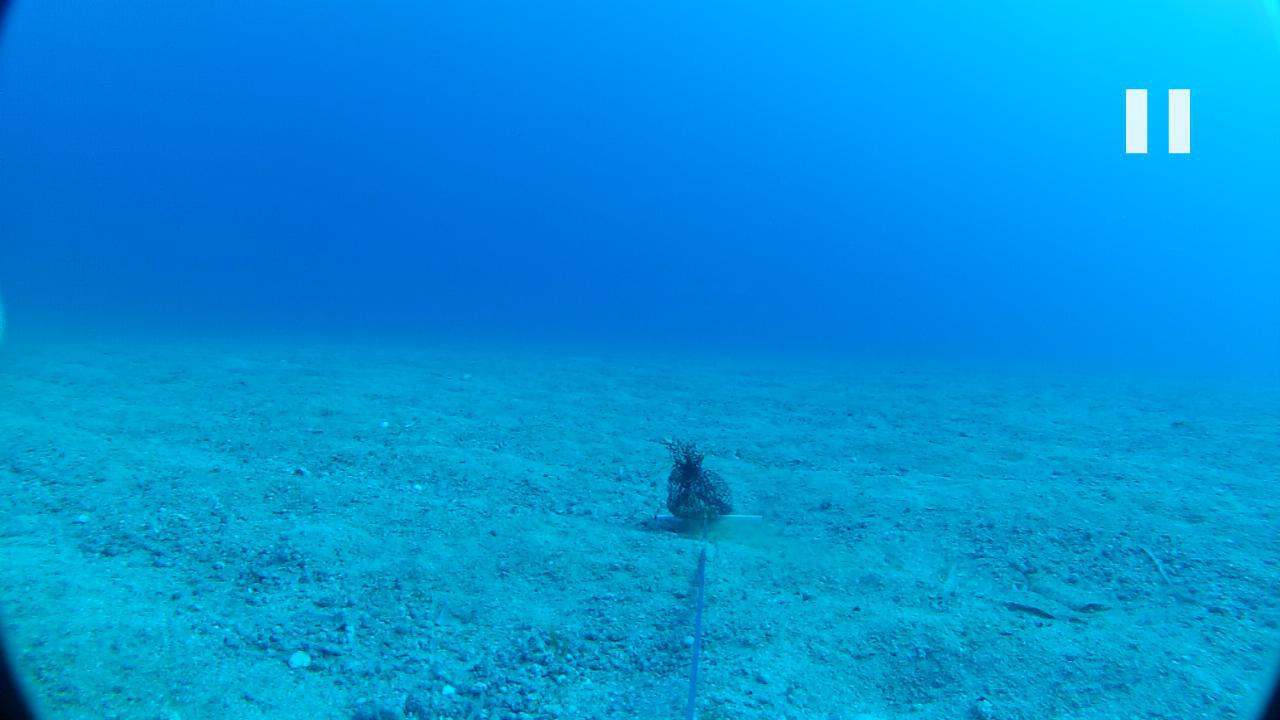bothus: (1014, 556, 1109, 617)
